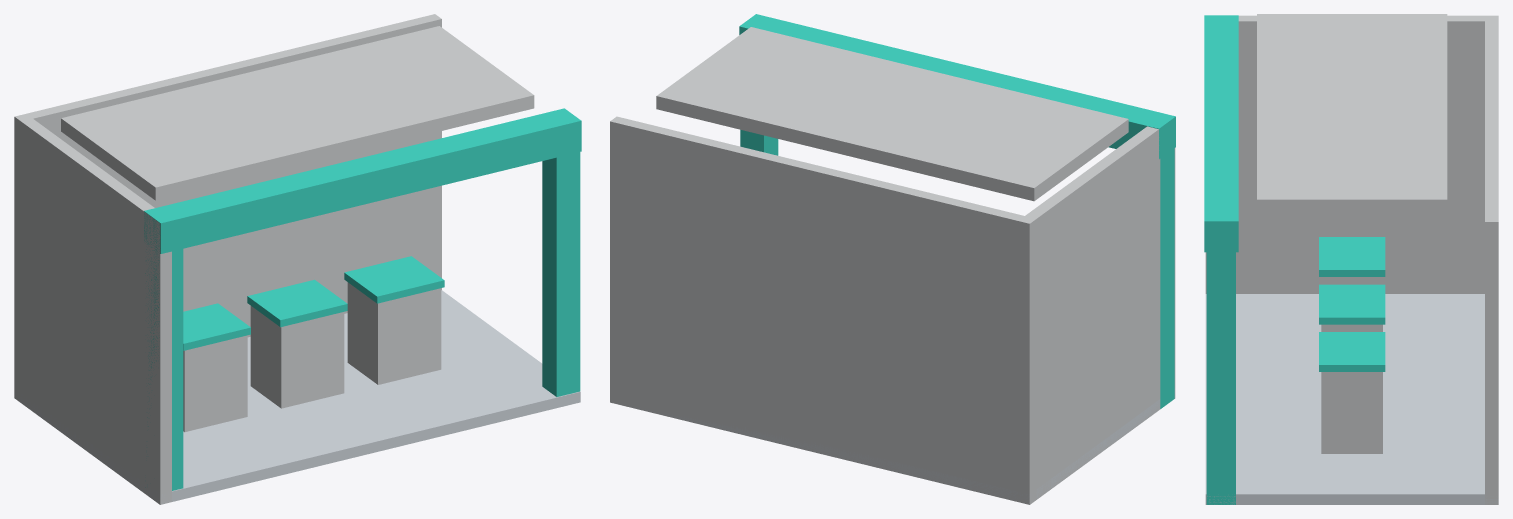
3 renders of one model, left to right at view 1: azimuth 30°, elevation 25°; view 2: azimuth 150°, elevation 25°; view 3: azimuth 270°, elevation 25°, orthographic.
Visible parts, largest first — view 1: Exhibition Booth Concept; view 2: Exhibition Booth Concept; view 3: Exhibition Booth Concept.
Boxes of the visible parts, bbox=[...] form: Exhibition Booth Concept: bbox=[14, 14, 581, 504]; Exhibition Booth Concept: bbox=[610, 14, 1175, 504]; Exhibition Booth Concept: bbox=[1204, 14, 1498, 504].
Bounding box in the file's own units: 5 × 3.34 × 3.01.
